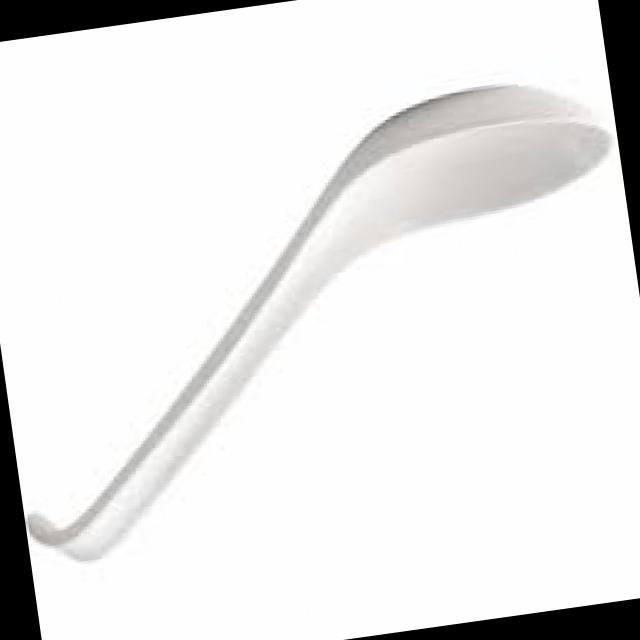spoon: (0, 42, 640, 604)
